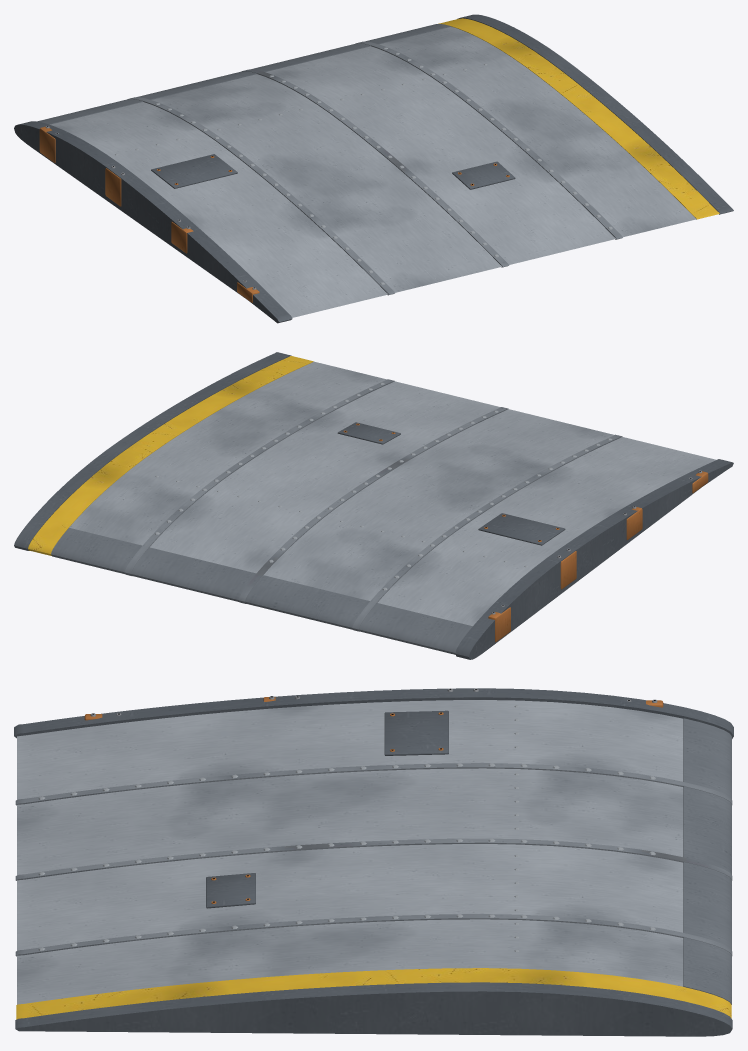
File: wing.glb
3 renders of one model, top to bottom at view 1: azimuth 30°, elevation 25°; view 2: azimuth 150°, elevation 25°; view 3: azimuth 270°, elevation 25°, orthographic. The views are drawn at different scales.
Parts seen in each view (by area): view 1: Wing.001; view 2: Wing.001; view 3: Wing.001.
Boxes of the visible parts, left/top/right/bottom form: Wing.001: left=14, top=14, right=733, bottom=323; Wing.001: left=14, top=352, right=733, bottom=659; Wing.001: left=14, top=688, right=733, bottom=1036.
Size of the model in its own units: 1 by 0.078 by 1.01.
9 materials, 7 textured.
